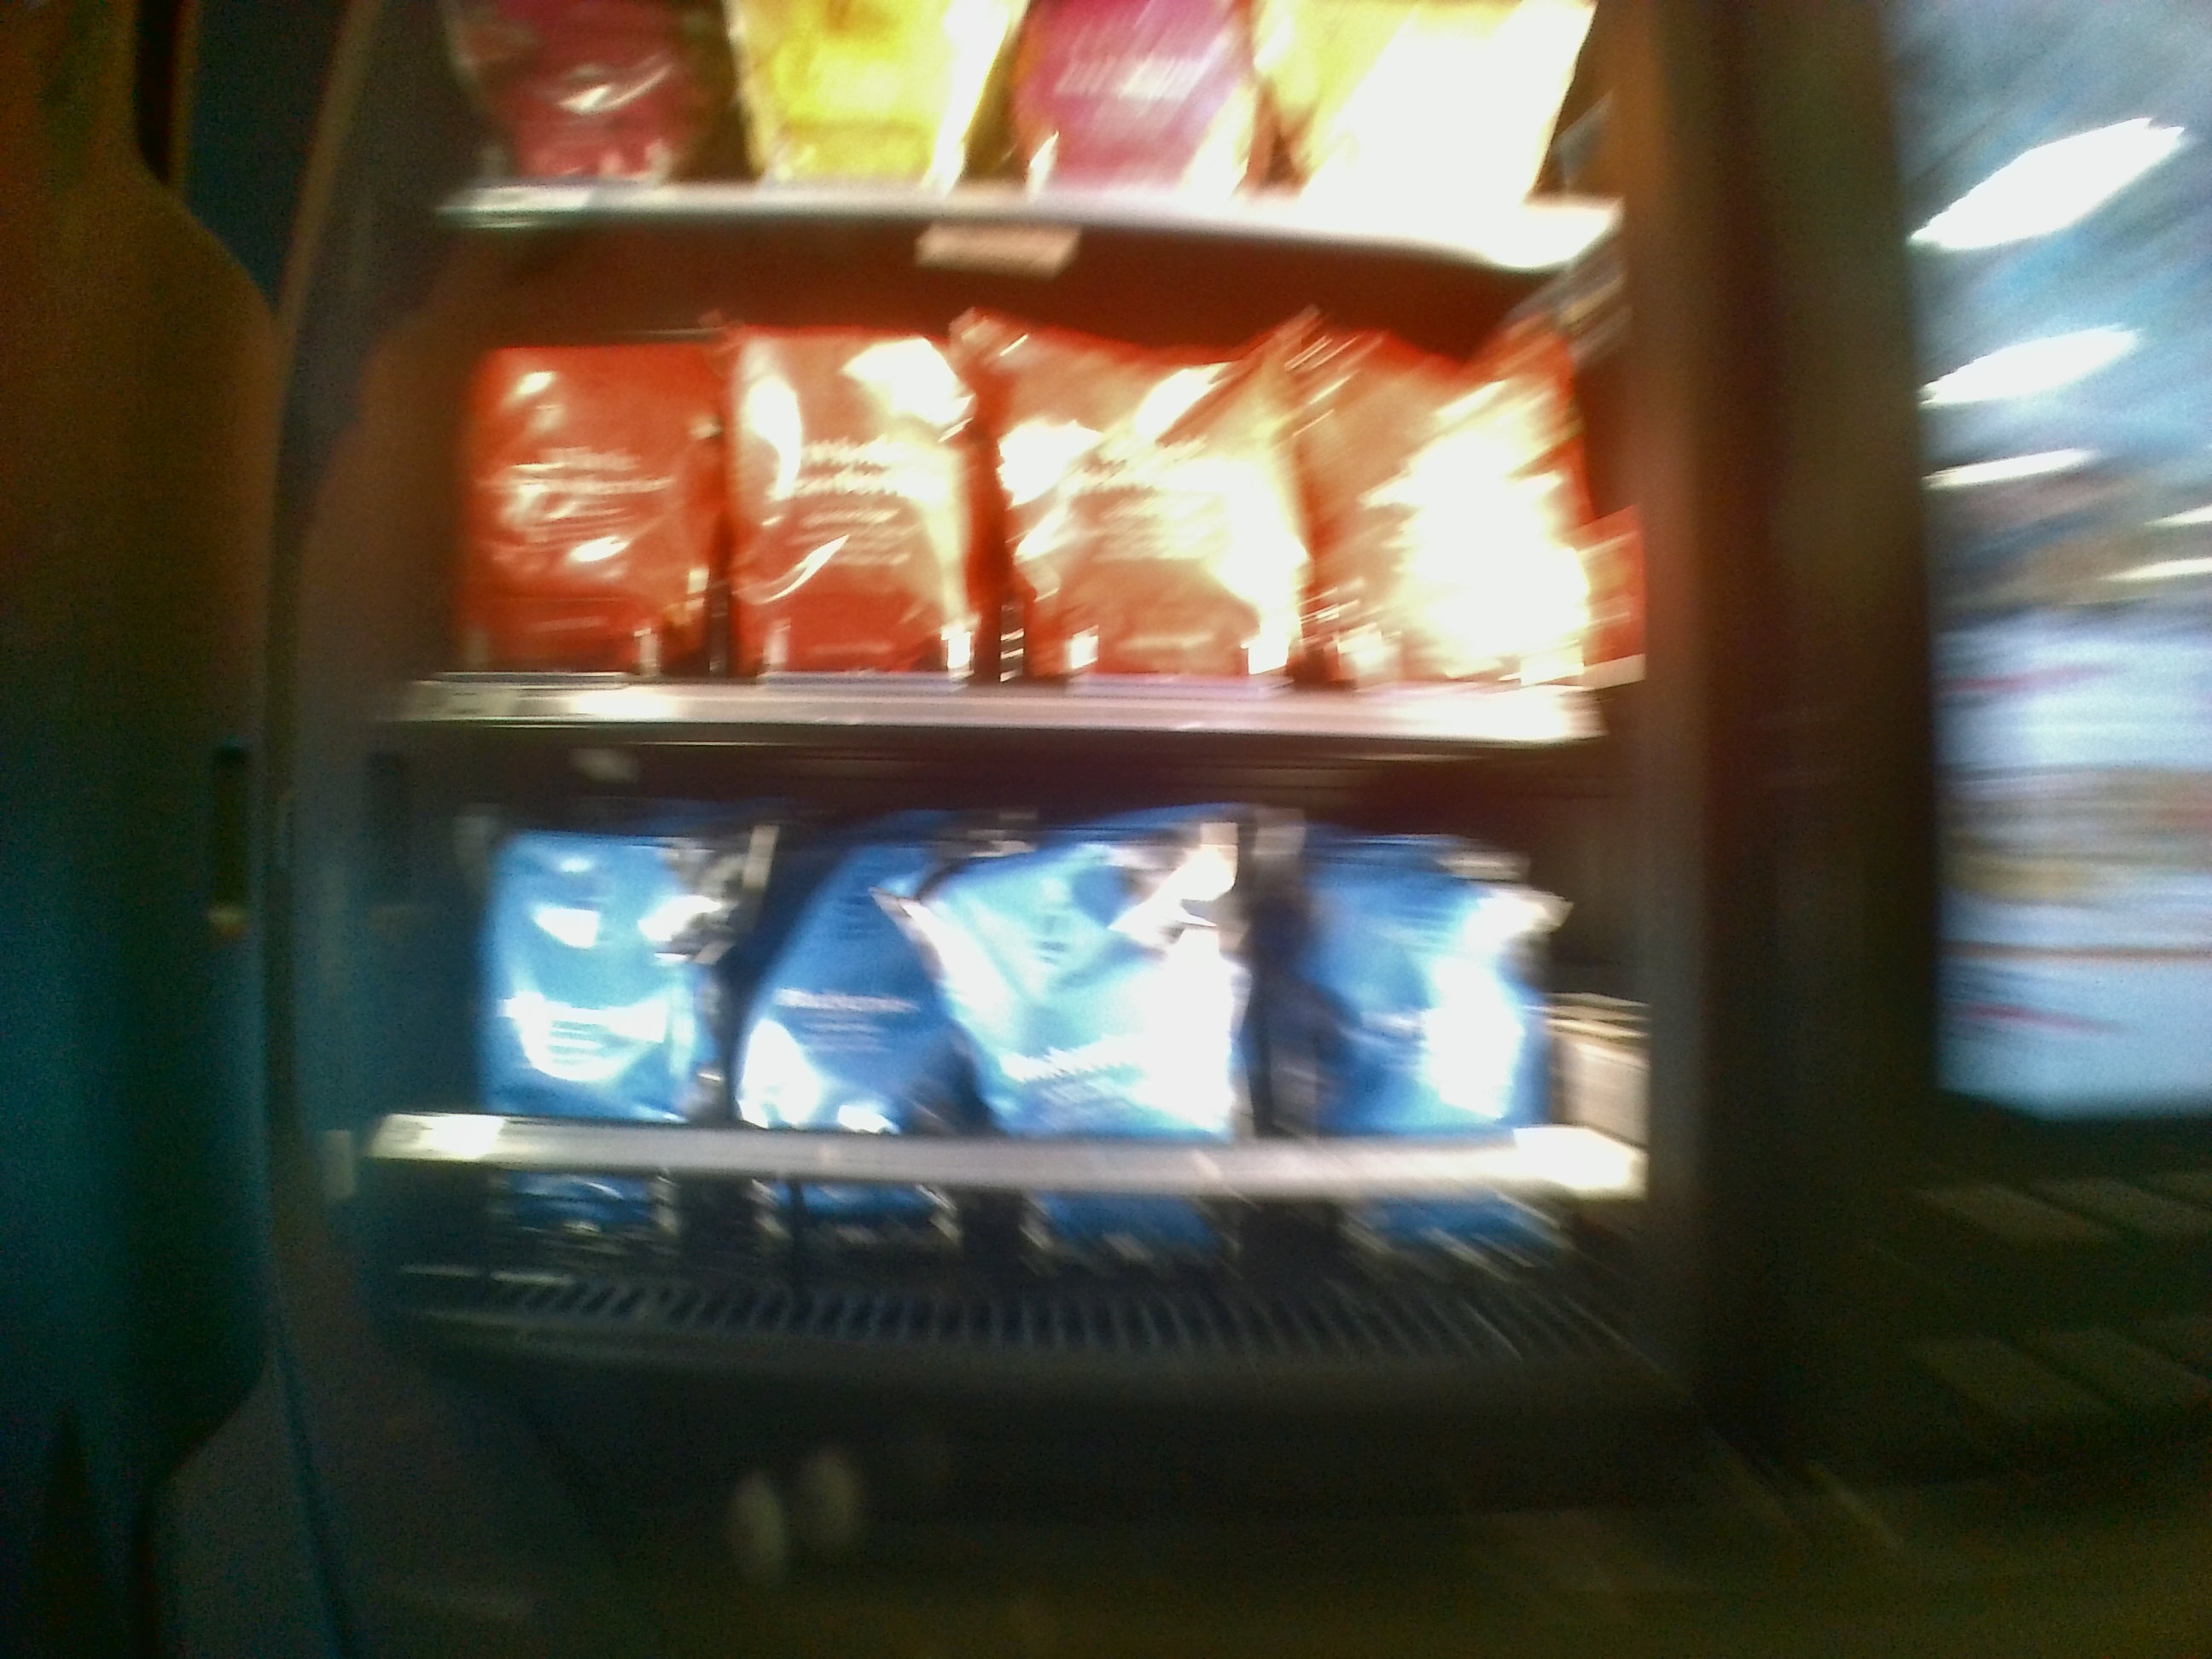shelf: (385, 730, 1627, 1310), (401, 228, 1606, 741)
